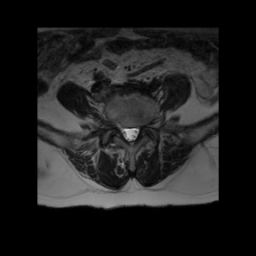CCS_normal: (127, 120, 133, 150)
LFS_severe_stenosis: (140, 118, 147, 135)
LLS_normal: (133, 120, 140, 145)
RFS_normal: (113, 114, 121, 136)
RLS_normal: (121, 121, 127, 144)
